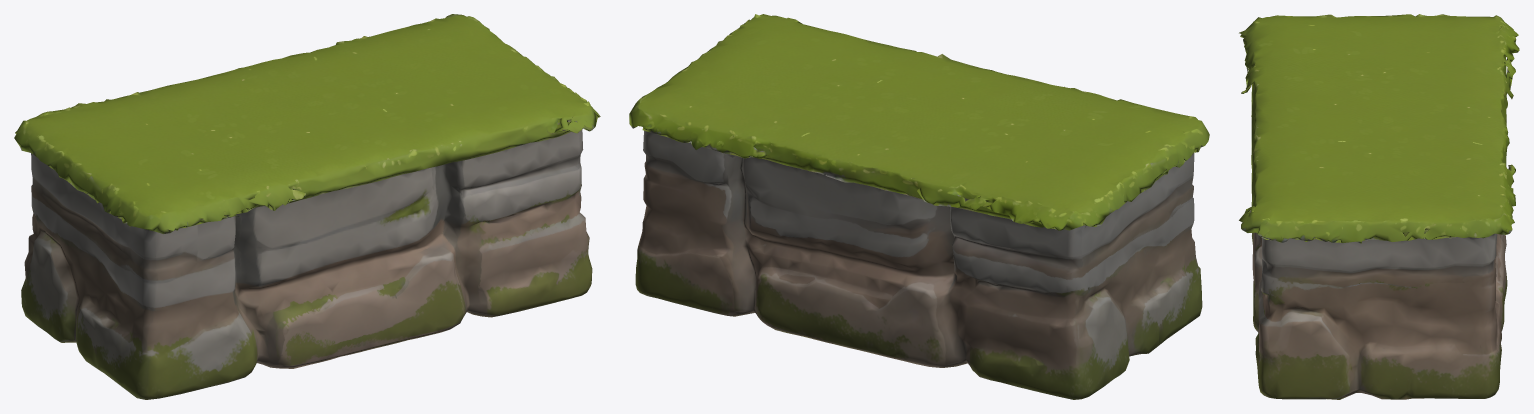
The model's file is Env_MesaPlateau.fbx.
The picture shows the model from 3 angles, left to right: view 1: azimuth 30°, elevation 25°; view 2: azimuth 150°, elevation 25°; view 3: azimuth 270°, elevation 25°; orthographic projection. The views are drawn at different scales.
Parts seen in each view (by area): view 1: texture_mapping; view 2: texture_mapping; view 3: texture_mapping.
Boxes of the visible parts, x1=… form: texture_mapping: x1=14, y1=14, x2=600, y2=399; texture_mapping: x1=629, y1=14, x2=1209, y2=399; texture_mapping: x1=1239, y1=14, x2=1519, y2=399.
Size of the model in its own units: 0.9992 by 0.5518 by 0.3983.
Materials: 1 (1 with a texture image).
